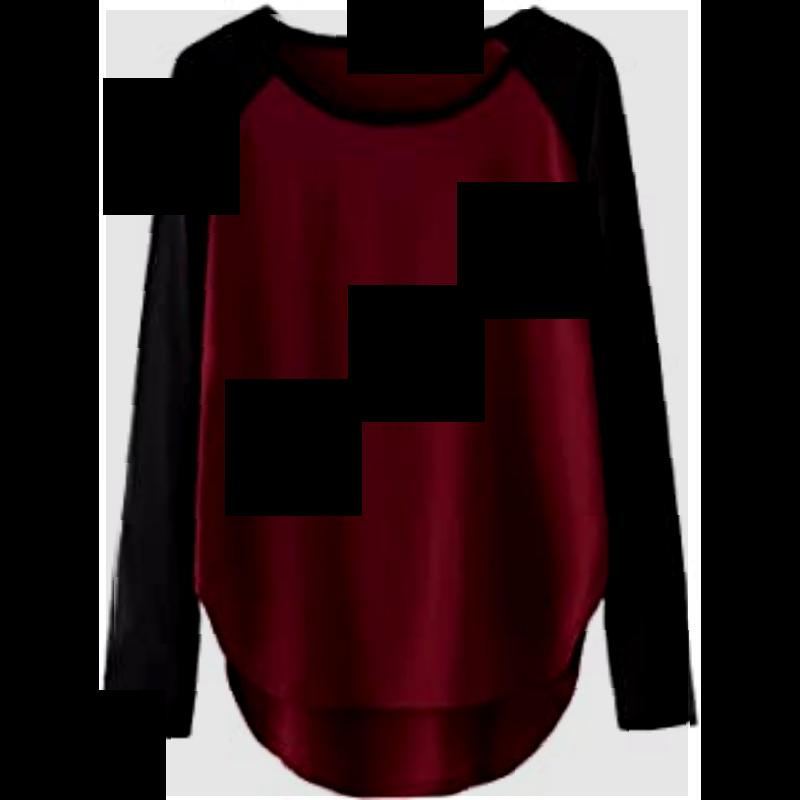Tshirt: (106, 10, 688, 796)
